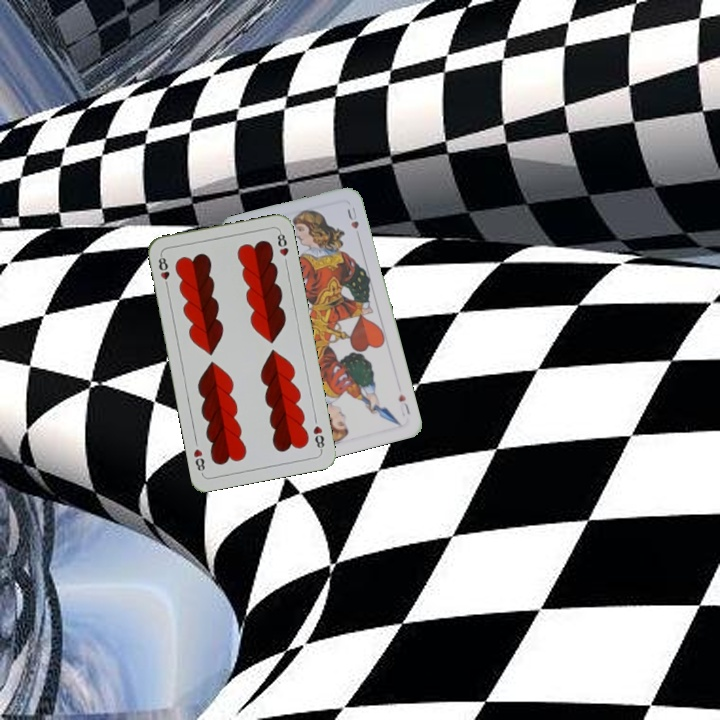H8: (154, 251, 172, 291), (309, 421, 327, 454)
HU: (394, 389, 413, 417)
